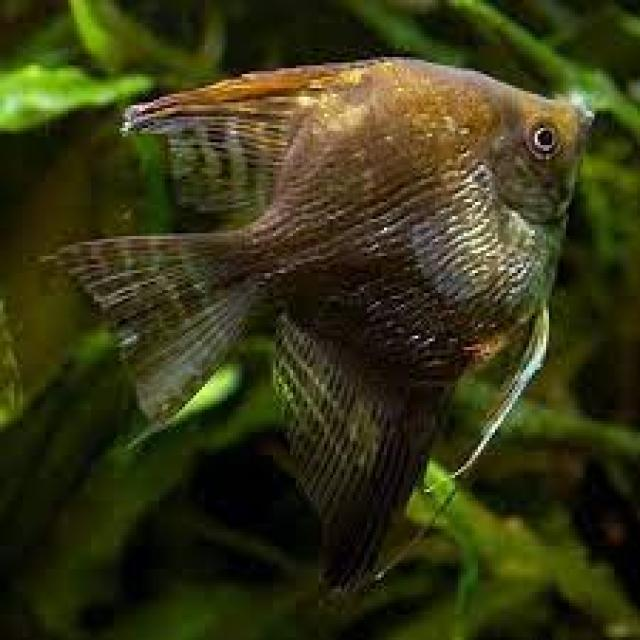AngelFish: (52, 59, 595, 610)
